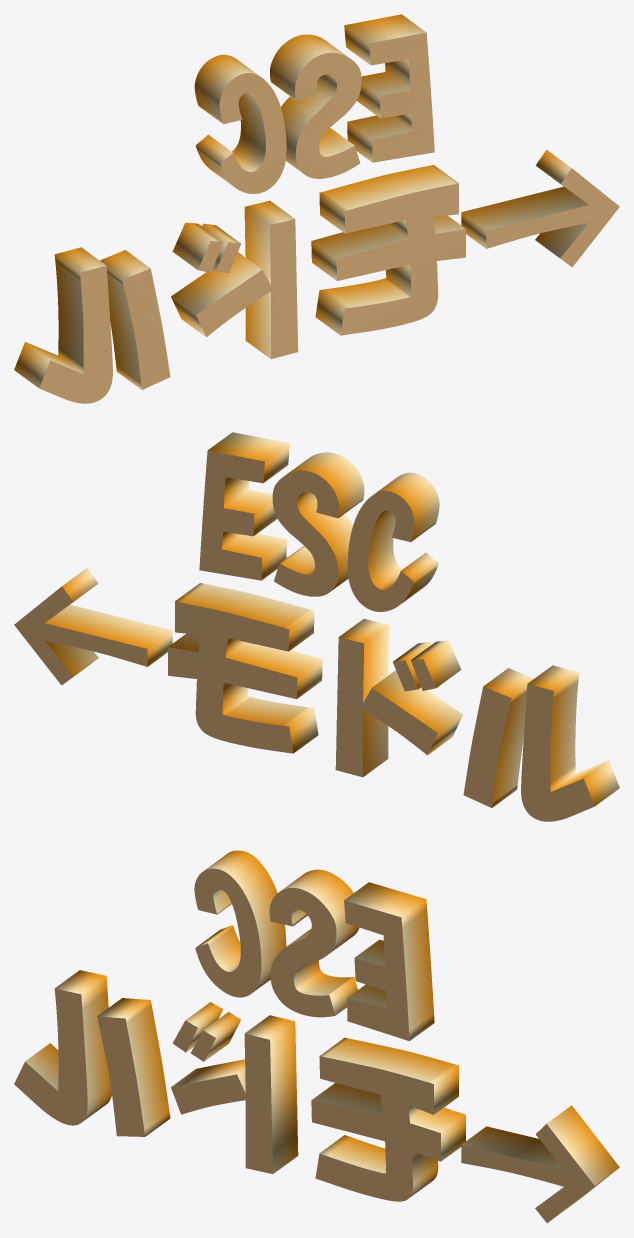
The model's file is Escape_moji.obj.
3 renders of one model, top to bottom at view 1: azimuth 30°, elevation 25°; view 2: azimuth 150°, elevation 25°; view 3: azimuth 330°, elevation 25°, orthographic.
Parts seen in each view (by area): view 1: テキスト.002, テキスト.001; view 2: テキスト.002, テキスト.001; view 3: テキスト.002, テキスト.001.
Part boxes in pixels (box(x1,y1,x2,y2)): テキスト.002: box(14, 149, 619, 403); テキスト.001: box(194, 14, 434, 193); テキスト.002: box(14, 567, 619, 821); テキスト.001: box(199, 432, 439, 611); テキスト.002: box(14, 970, 619, 1223); テキスト.001: box(194, 850, 434, 1041).
Bounding box in the file's own units: 5.07 × 2.44 × 0.3815.
2 materials, 2 textured.
